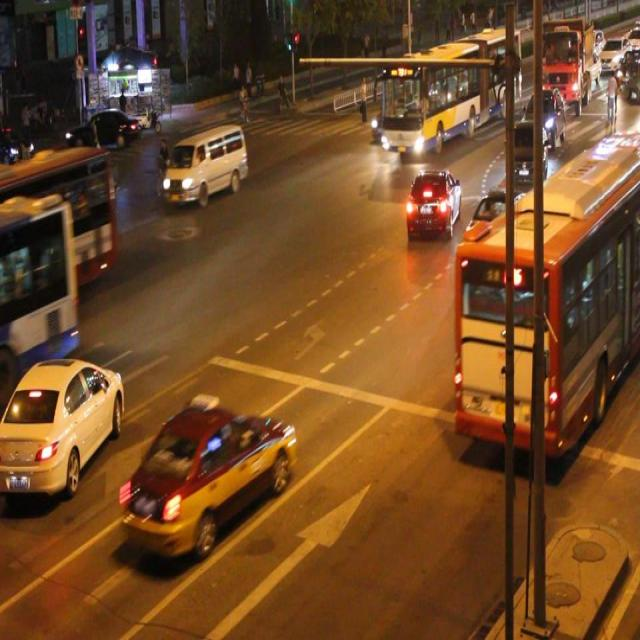car: (123, 400, 296, 554), (1, 358, 122, 493), (463, 181, 529, 255), (403, 165, 460, 238), (503, 120, 544, 188)
truck: (162, 122, 246, 205)
van: (454, 130, 640, 447), (0, 147, 116, 316), (1, 196, 78, 386)
